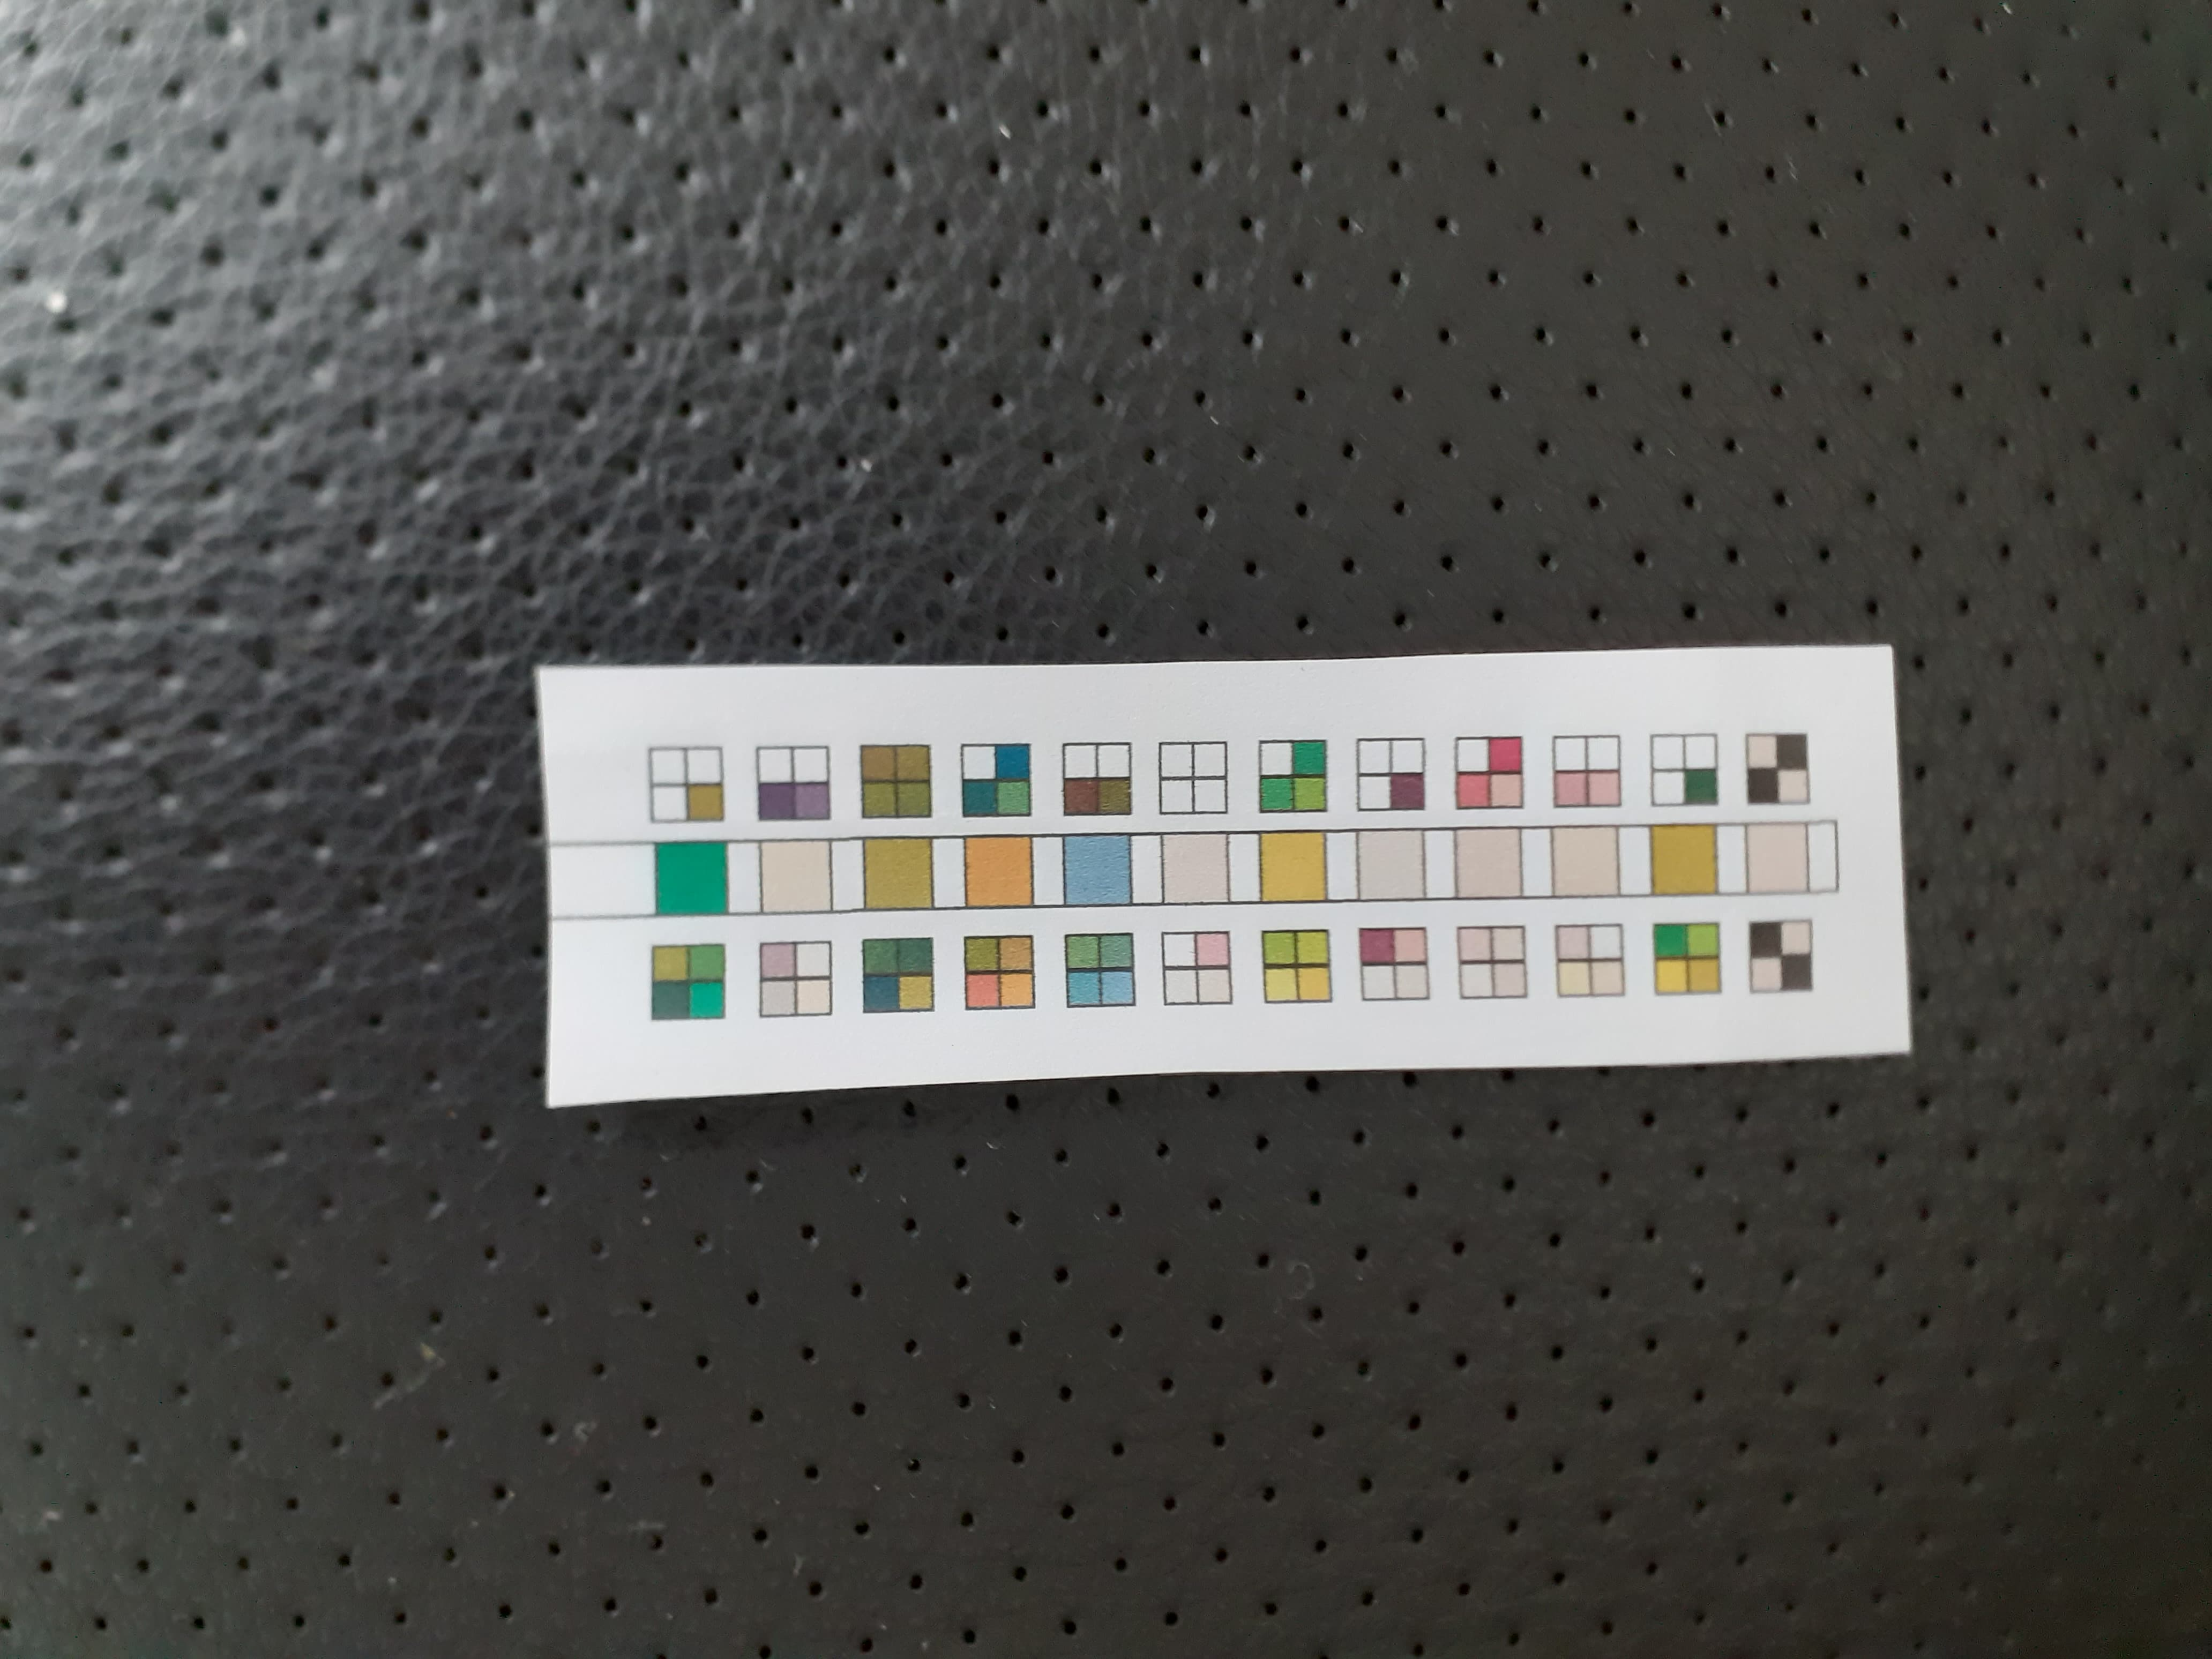tester: (542, 657, 1907, 1070)
